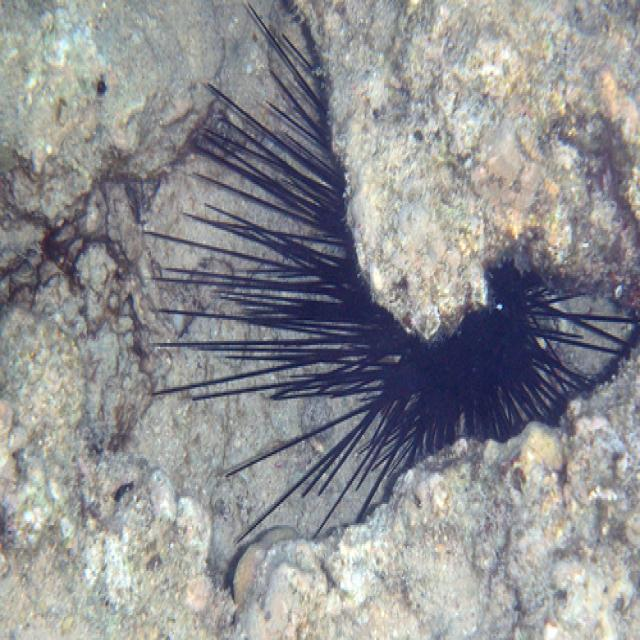Urchin: (146, 4, 635, 546)
